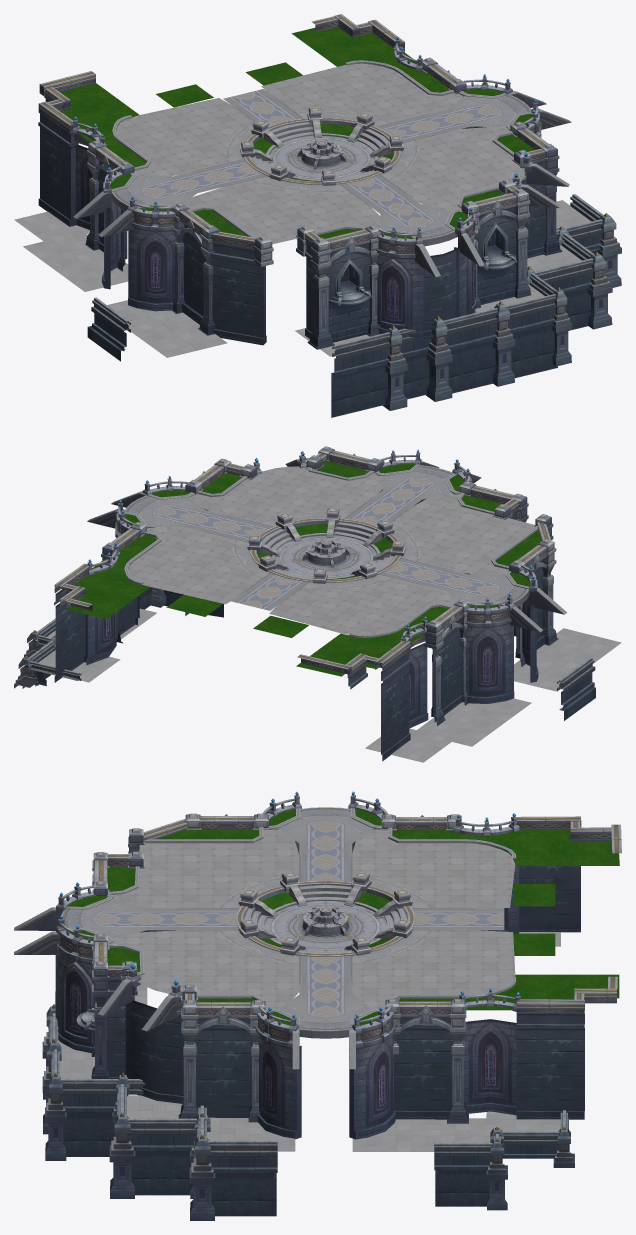
Rendered from zhuchengjianzhu_4.FBX.
3 views of the same model, one above another, from view 1: azimuth 30°, elevation 25°; view 2: azimuth 150°, elevation 25°; view 3: azimuth 270°, elevation 25° (orthographic). The views are drawn at different scales.
Visible parts, largest first — view 1: zhucheng_qiangti06, zhucheng_gcdm02, zhucheng_gcdm01, zhucheng_qiangti05, zhucheng_qiangti09, zhucheng_cd, zhucheng_guangchang, zhucheng_qiangti010, zhucheng_dimian015, zhucheng_qiangti08, zhucheng_dm1, zhucheng_qiangti07 (+3 smaller); view 2: zhucheng_gcdm02, zhucheng_qiangti05, zhucheng_gcdm01, zhucheng_cd, zhucheng_qiangti06, zhucheng_guangchang, zhucheng_dimian015, zhucheng_dm1, zhucheng_qiangti04, zhucheng_qiangti019, zhucheng_dimian04, zhucheng_qiangti07; view 3: zhucheng_qiangti05, zhucheng_gcdm02, zhucheng_qiangti06, zhucheng_gcdm01, zhucheng_cd, zhucheng_guangchang, zhucheng_qiangti04, zhucheng_qiangti09, zhucheng_qiangti07, zhucheng_qiangti08, zhucheng_dimian04, zhucheng_dimian07 (+2 smaller).
Boxes of the visible parts, x1,y1,x2,y2 form: zhucheng_qiangti06: [127, 99, 562, 349]; zhucheng_gcdm02: [116, 63, 524, 244]; zhucheng_gcdm01: [73, 60, 571, 276]; zhucheng_qiangti05: [38, 14, 512, 289]; zhucheng_qiangti09: [426, 266, 572, 401]; zhucheng_cd: [60, 27, 534, 238]; zhucheng_guangchang: [240, 107, 403, 185]; zhucheng_qiangti010: [331, 325, 431, 417]; zhucheng_dimian015: [14, 211, 128, 291]; zhucheng_qiangti08: [535, 226, 612, 330]; zhucheng_dm1: [107, 300, 227, 357]; zhucheng_qiangti07: [556, 194, 621, 287]; zhucheng_gcdm02: [128, 466, 534, 634]; zhucheng_qiangti05: [54, 500, 514, 761]; zhucheng_gcdm01: [87, 459, 566, 638]; zhucheng_cd: [65, 461, 541, 676]; zhucheng_qiangti06: [142, 446, 558, 682]; zhucheng_guangchang: [247, 508, 405, 583]; zhucheng_dimian015: [365, 698, 531, 762]; zhucheng_dm1: [514, 628, 621, 691]; zhucheng_qiangti04: [14, 618, 81, 688]; zhucheng_qiangti019: [557, 657, 595, 720]; zhucheng_dimian04: [38, 608, 156, 682]; zhucheng_qiangti07: [139, 587, 223, 617]; zhucheng_qiangti05: [348, 791, 621, 1139]; zhucheng_gcdm02: [110, 829, 515, 1009]; zhucheng_qiangti06: [55, 791, 301, 1139]; zhucheng_gcdm01: [14, 807, 516, 1069]; zhucheng_cd: [67, 808, 619, 1025]; zhucheng_guangchang: [235, 872, 415, 956]; zhucheng_qiangti04: [434, 1110, 574, 1210]; zhucheng_qiangti09: [42, 1004, 145, 1160]; zhucheng_qiangti07: [189, 1105, 277, 1220]; zhucheng_qiangti08: [109, 1084, 210, 1198]; zhucheng_dimian04: [352, 1111, 560, 1151]; zhucheng_dimian07: [207, 1117, 295, 1151].
Size of the model in its own units: 2206 by 2132 by 759.
19 materials, 19 textured.
